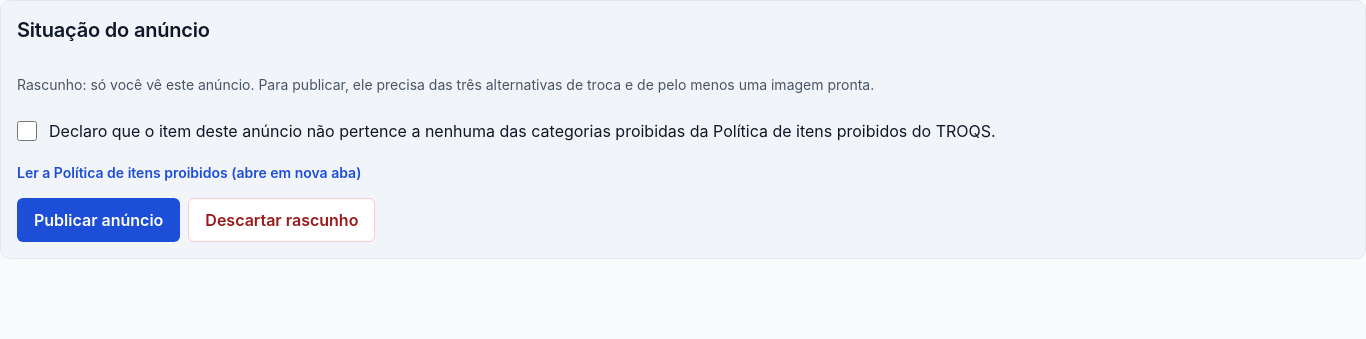
LifecyclePanel › recusa do servidor vira alerta focado, com os campos a corrigir
Click the button "Publicar anúncio": (99,220) [17, 198, 180, 242]
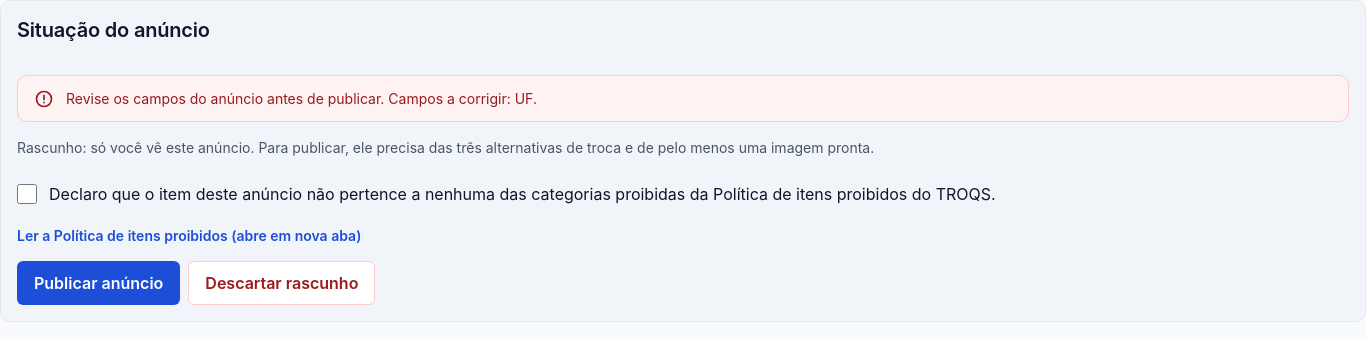
Expected: the message shows "Campos a corrigir: UF.", [66, 90, 537, 107]
